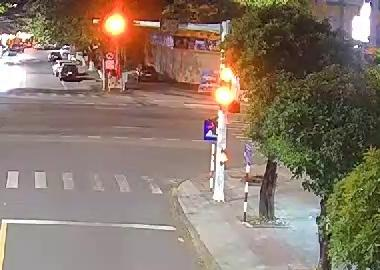stop_line: (3, 219, 175, 230)
yellow_light: (99, 12, 129, 38), (213, 85, 236, 107)
